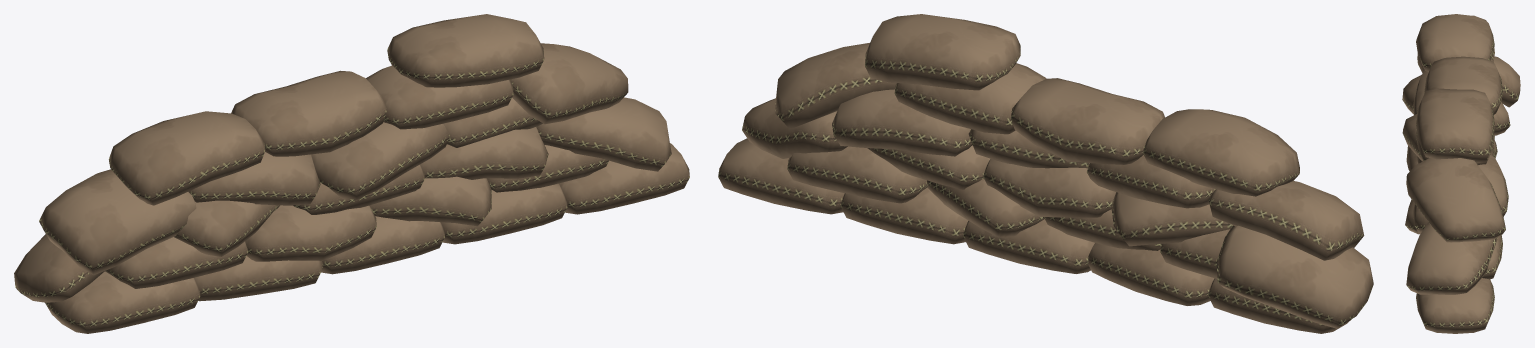
File: Bags5.fbx
3 renders of one model, left to right at view 1: azimuth 30°, elevation 25°; view 2: azimuth 150°, elevation 25°; view 3: azimuth 270°, elevation 25°, orthographic. The views are drawn at different scales.
Visible parts, largest first — view 1: polySurface1238; view 2: polySurface1238; view 3: polySurface1238.
Boxes of the visible parts, bbox=[...] form: polySurface1238: bbox=[14, 14, 689, 333]; polySurface1238: bbox=[718, 14, 1373, 333]; polySurface1238: bbox=[1402, 14, 1520, 333].
Bounding box in the file's own units: 407 × 122 × 84.38.
